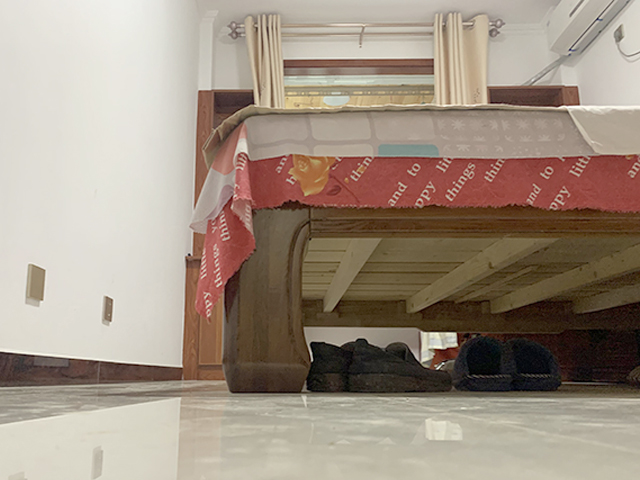bed: (189, 104, 639, 395)
curtain: (429, 8, 493, 105), (241, 12, 287, 107)
slippers: (451, 338, 511, 391), (510, 339, 559, 393)
